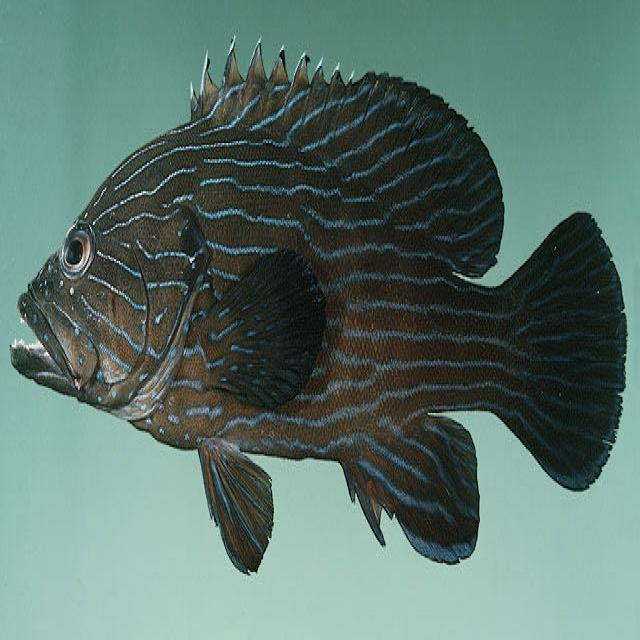ikan: (10, 34, 628, 576)
